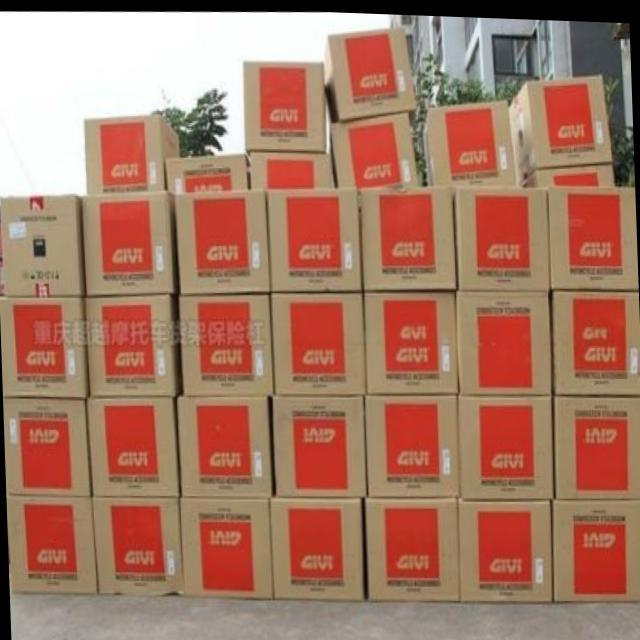box: (507, 72, 612, 181), (267, 183, 364, 290), (174, 185, 270, 292), (453, 184, 550, 287), (455, 287, 551, 391), (365, 390, 459, 496), (456, 495, 552, 598), (458, 391, 553, 495), (362, 287, 457, 391), (360, 184, 456, 286), (82, 190, 176, 294), (177, 293, 274, 393), (269, 495, 364, 597), (272, 393, 367, 495), (366, 494, 458, 599), (177, 394, 272, 495), (271, 291, 364, 393), (180, 496, 272, 598), (552, 494, 640, 600), (86, 294, 179, 394), (87, 393, 179, 493), (547, 183, 637, 285), (0, 297, 89, 400), (552, 287, 640, 391), (320, 25, 416, 120), (6, 495, 98, 594), (553, 392, 640, 494), (0, 193, 85, 297), (93, 496, 183, 594), (421, 95, 518, 183), (3, 400, 91, 496), (242, 59, 325, 150), (84, 114, 179, 193), (327, 108, 419, 184), (165, 150, 251, 191), (249, 150, 330, 186), (518, 158, 614, 185)
